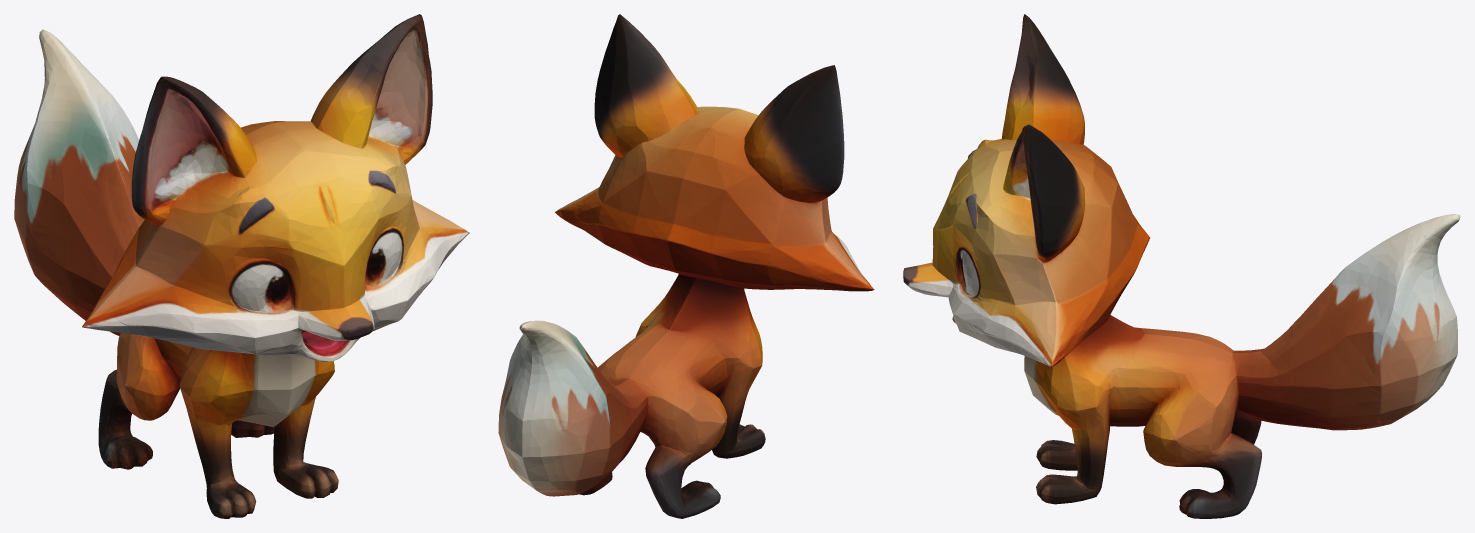
File: LandingDemo.glb
The picture shows the model from 3 angles, left to right: view 1: azimuth 30°, elevation 25°; view 2: azimuth 150°, elevation 25°; view 3: azimuth 270°, elevation 25°; orthographic projection. The views are drawn at different scales.
Parts seen in each view (by area): view 1: world; view 2: world; view 3: world.
Boxes of the visible parts, x1,y1,x2,y2 form: world: (14,14,469,518); world: (498,14,874,518); world: (903,14,1460,518).
Size of the model in its own units: 0.7035 by 0.8302 by 1.
Materials: 1 (1 with a texture image).
